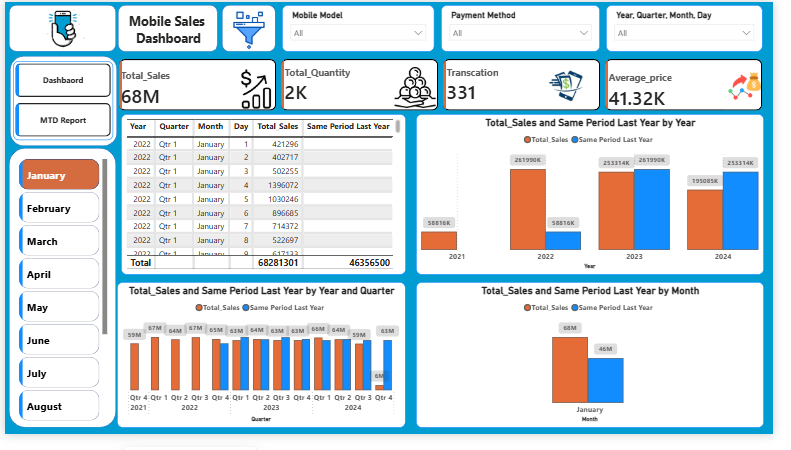

Layout of this report page (visuals, bound fields, positions):
{"tool":"powerbi","page":{"name":"Same Period Last Year","canvas":[1280,720],"ordinal":2},"visuals":[{"type":"shape","box":[361.1,5.6,89.3,78],"z":0,"group":"g2"},{"type":"group","id":"g1","title":"Group 1","box":[7.1,5.7,178.6,83.6],"z":0},{"type":"shape","box":[7.1,5.7,178.6,77.7],"z":0,"group":"g1"},{"type":"image","box":[331.3,15,150.3,63.8],"z":1000,"group":"g2"},{"type":"shape","box":[8.5,89.3,178.6,150.3],"z":1000},{"type":"shape","box":[5.9,243.3,178.4,466],"z":1000,"group":"g4"},{"type":"image","box":[20.1,5.7,152.7,83.6],"z":1500,"group":"g1"},{"type":"cardVisual","fields":{"Data":["Mobile_sales_data.Total_Sales","Mobile_sales_data.Total_Quantity","Mobile_sales_data.Transcation","Mobile_sales_data.Average_price"]},"box":[175.8,79.4,1104.2,116.2],"z":2000},{"type":"slicer","fields":{"Values":["Mobile_sales_data.Mobile Model"]},"box":[462.1,5.7,253.7,78],"z":3000},{"type":"advancedSlicerVisual","fields":{"Values":["Custom_calendar.Date.Variation.Date Hierarchy.Month"]},"box":[17.8,256.1,157.8,446.8],"z":3000,"group":"g4"},{"type":"slicer","fields":{"Values":["Mobile_sales_data.Payment Method"]},"box":[727.2,4.3,265.1,78],"z":4000},{"type":"slicer","fields":{"Values":["Custom_calendar.Date.Variation.Date Hierarchy.Year","Custom_calendar.Date.Variation.Date Hierarchy.Quarter","Custom_calendar.Date.Variation.Date Hierarchy.Month","Custom_calendar.Date.Variation.Date Hierarchy.Day"]},"box":[1002.2,5.7,260.8,78],"z":5000},{"type":"group","id":"g2","title":"Group 3","box":[331.3,5.6,150.3,78],"z":6000},{"type":"group","id":"g3","title":"Group 4","box":[188.5,5.7,165.8,78],"z":7000},{"type":"shape","box":[188.5,5.7,165.8,78],"z":8000,"group":"g3"},{"type":"group","id":"g4","title":"Group 2","box":[5.9,243.3,178.4,466],"z":8000},{"type":"textbox","box":[193.1,12.8,158.2,67.3],"z":9000,"group":"g3"},{"type":"tableEx","fields":{"Values":["Custom_calendar.Date.Variation.Date Hierarchy.Year","Custom_calendar.Date.Variation.Date Hierarchy.Quarter","Custom_calendar.Date.Variation.Date Hierarchy.Month","Custom_calendar.Date.Variation.Date Hierarchy.Day","Mobile_sales_data.Total_Sales","Mobile_sales_data.Same Period Last Year"]},"box":[193.2,187.3,474.8,268.4],"z":9000},{"type":"clusteredColumnChart","fields":{"Category":["Custom_calendar.Date.Variation.Date Hierarchy.Year","Custom_calendar.Date.Variation.Date Hierarchy.Quarter","Custom_calendar.Date.Variation.Date Hierarchy.Month","Custom_calendar.Date.Variation.Date Hierarchy.Day"],"Y":["Mobile_sales_data.Total_Sales","Mobile_sales_data.Same Period Last Year"]},"box":[684.2,187.3,579.5,268.4],"z":10000},{"type":"clusteredColumnChart","fields":{"Category":["Custom_calendar.Date.Variation.Date Hierarchy.Year","Custom_calendar.Date.Variation.Date Hierarchy.Quarter","Custom_calendar.Date.Variation.Date Hierarchy.Month","Custom_calendar.Date.Variation.Date Hierarchy.Day"],"Y":["Mobile_sales_data.Total_Sales","Mobile_sales_data.Same Period Last Year"]},"box":[684.2,466,579.5,243.3],"z":11000},{"type":"clusteredColumnChart","fields":{"Category":["Custom_calendar.Date.Variation.Date Hierarchy.Year","Custom_calendar.Date.Variation.Date Hierarchy.Quarter","Custom_calendar.Date.Variation.Date Hierarchy.Month","Custom_calendar.Date.Variation.Date Hierarchy.Day"],"Y":["Mobile_sales_data.Total_Sales","Mobile_sales_data.Same Period Last Year"]},"box":[187.3,466,480.7,243.3],"z":12000},{"type":"pageNavigator","box":[12.8,97.8,167.3,131.8],"z":12001}]}

Visuals, with their boxes in screenshot pixels (x1, y1, x2, y2), scaled from the page's 1280x720 canvas onto the 791x450 screenshot:
shape: <bbox>223, 4, 278, 52</bbox>
"Group 1" group: <bbox>4, 4, 115, 56</bbox>
shape: <bbox>4, 4, 115, 52</bbox>
image: <bbox>205, 9, 298, 49</bbox>
shape: <bbox>5, 56, 116, 150</bbox>
shape: <bbox>4, 152, 114, 443</bbox>
image: <bbox>12, 4, 107, 56</bbox>
cardVisual - Mobile_sales_data.Total_Sales x Mobile_sales_data.Total_Quantity: <bbox>109, 50, 790, 122</bbox>
slicer - Mobile_sales_data.Mobile Model: <bbox>286, 4, 442, 52</bbox>
advancedSlicerVisual - Custom_calendar.Date.Variation.Date Hierarchy.Month: <bbox>11, 160, 109, 439</bbox>
slicer - Mobile_sales_data.Payment Method: <bbox>449, 3, 613, 51</bbox>
slicer - Custom_calendar.Date.Variation.Date Hierarchy.Year x Custom_calendar.Date.Variation.Date Hierarchy.Quarter: <bbox>619, 4, 780, 52</bbox>
"Group 3" group: <bbox>205, 4, 298, 52</bbox>
"Group 4" group: <bbox>116, 4, 219, 52</bbox>
shape: <bbox>116, 4, 219, 52</bbox>
"Group 2" group: <bbox>4, 152, 114, 443</bbox>
textbox: <bbox>119, 8, 217, 50</bbox>
tableEx - Custom_calendar.Date.Variation.Date Hierarchy.Year x Custom_calendar.Date.Variation.Date Hierarchy.Quarter: <bbox>119, 117, 413, 285</bbox>
clusteredColumnChart - Custom_calendar.Date.Variation.Date Hierarchy.Year x Custom_calendar.Date.Variation.Date Hierarchy.Quarter: <bbox>423, 117, 781, 285</bbox>
clusteredColumnChart - Custom_calendar.Date.Variation.Date Hierarchy.Year x Custom_calendar.Date.Variation.Date Hierarchy.Quarter: <bbox>423, 291, 781, 443</bbox>
clusteredColumnChart - Custom_calendar.Date.Variation.Date Hierarchy.Year x Custom_calendar.Date.Variation.Date Hierarchy.Quarter: <bbox>116, 291, 413, 443</bbox>
pageNavigator: <bbox>8, 61, 111, 144</bbox>
